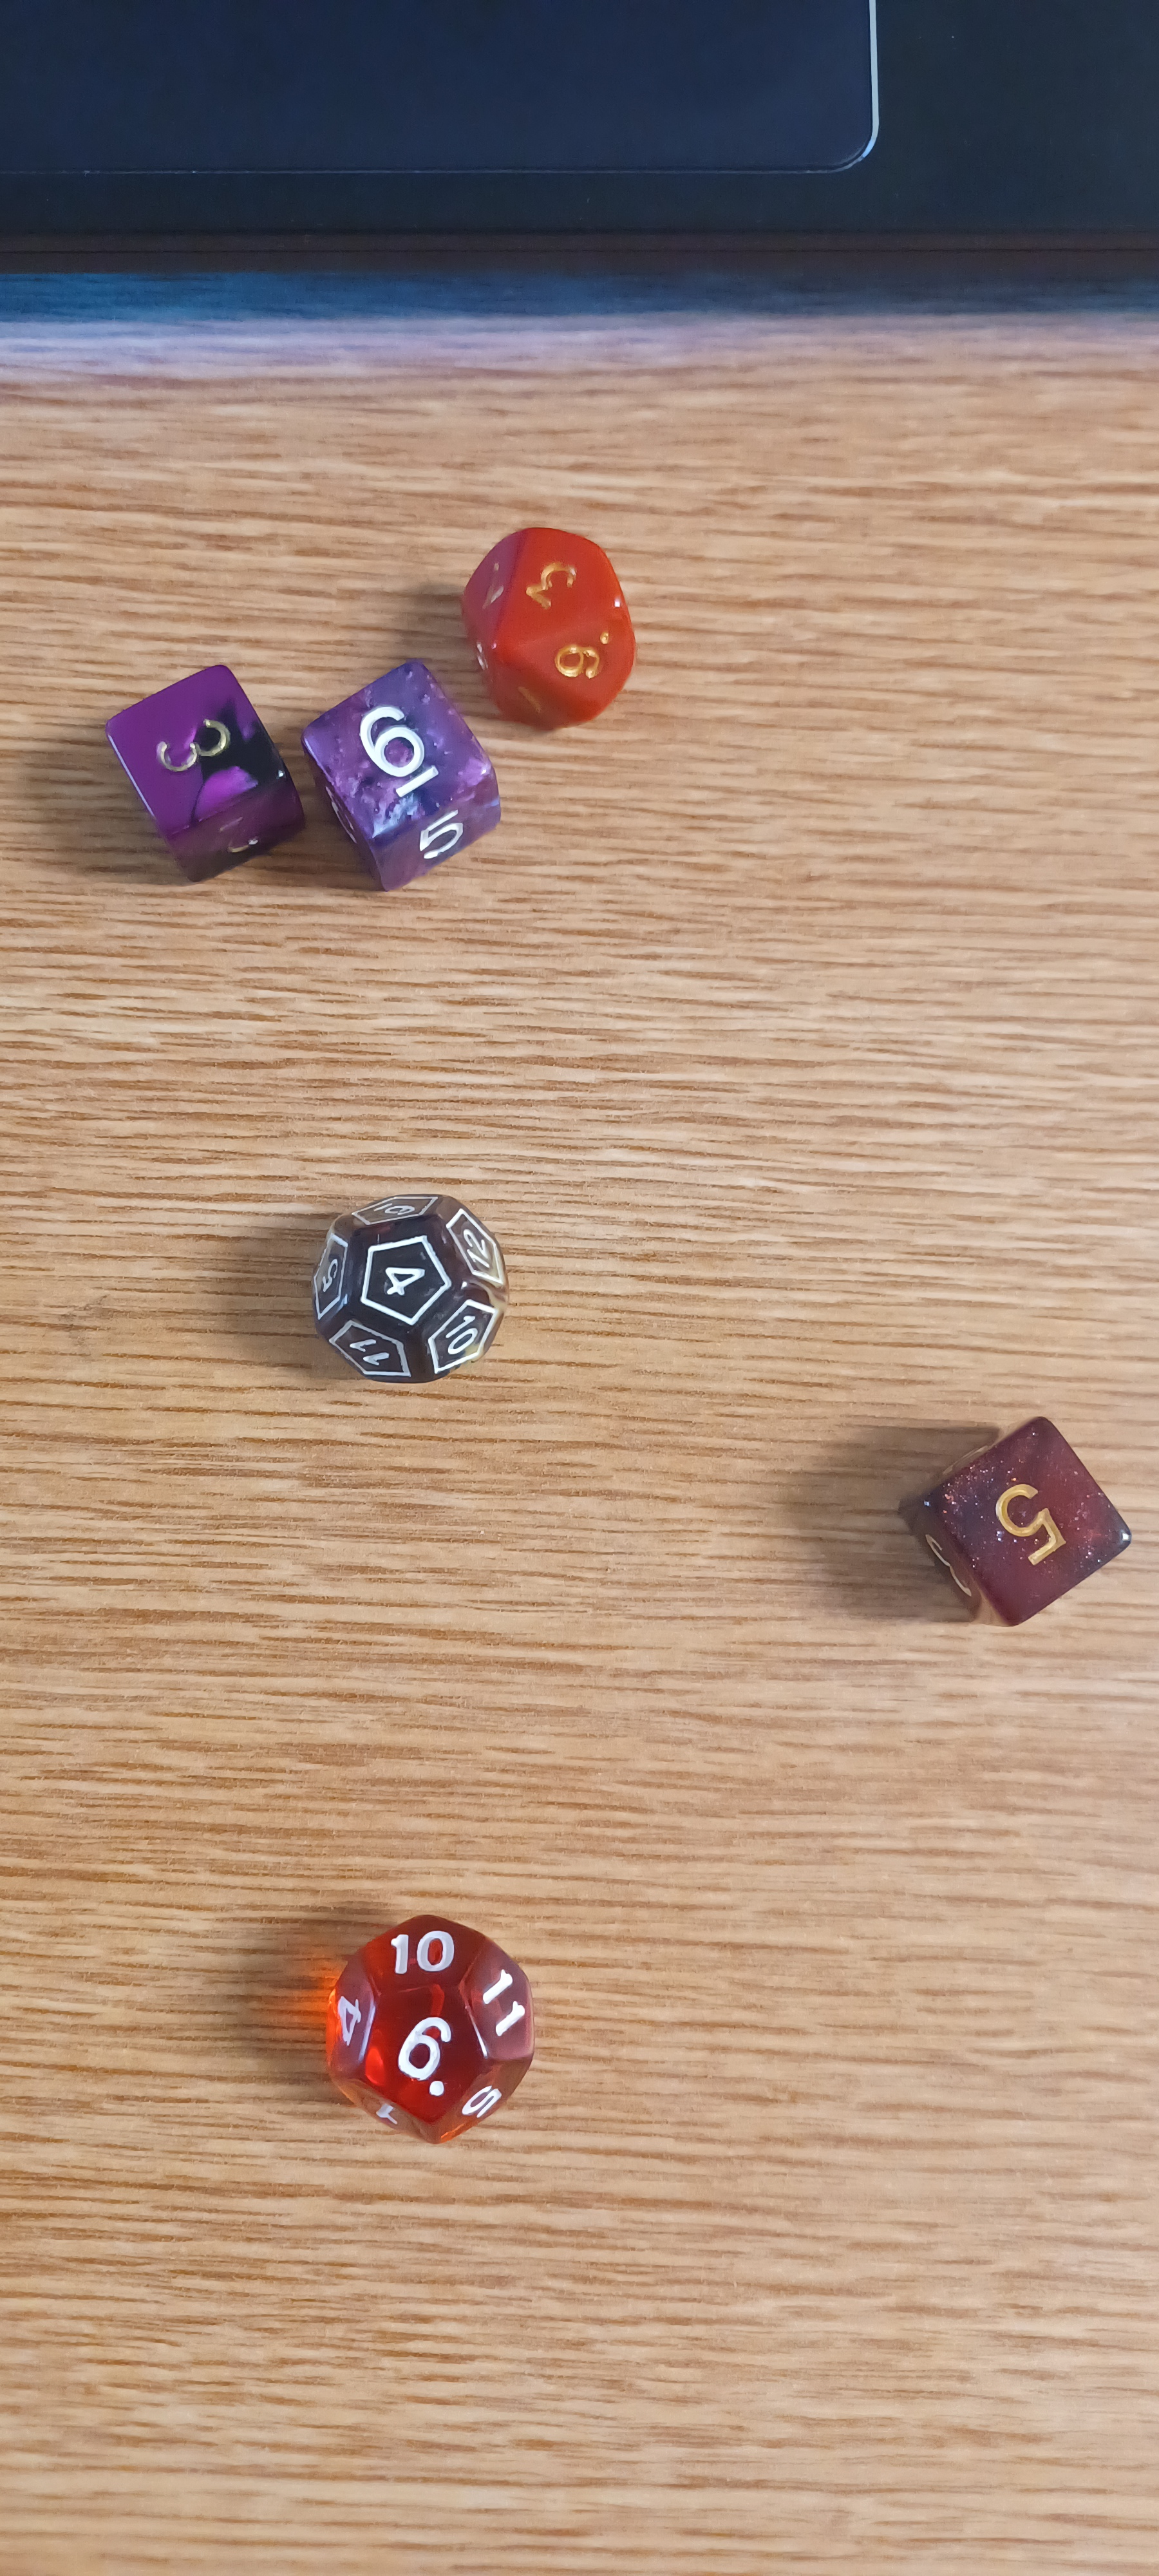five: (864, 1380, 1154, 1667)
four: (259, 1135, 565, 1431)
six: (259, 1888, 614, 2175), (277, 644, 514, 892)
three: (71, 636, 343, 915), (443, 506, 662, 756)
